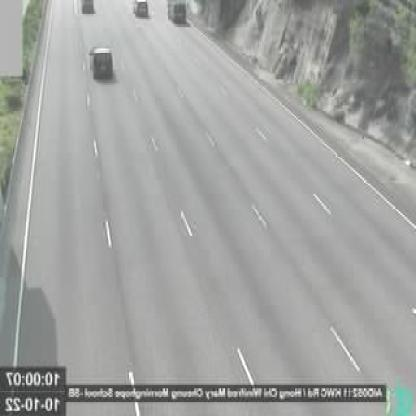Car: (92, 44, 113, 80), (168, 1, 186, 24), (133, 0, 147, 16), (81, 1, 94, 13)
